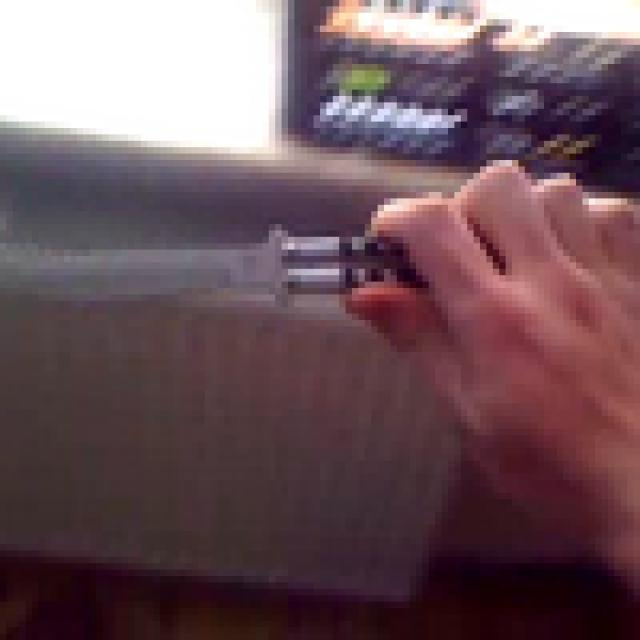Weapons: (0, 224, 433, 301)
